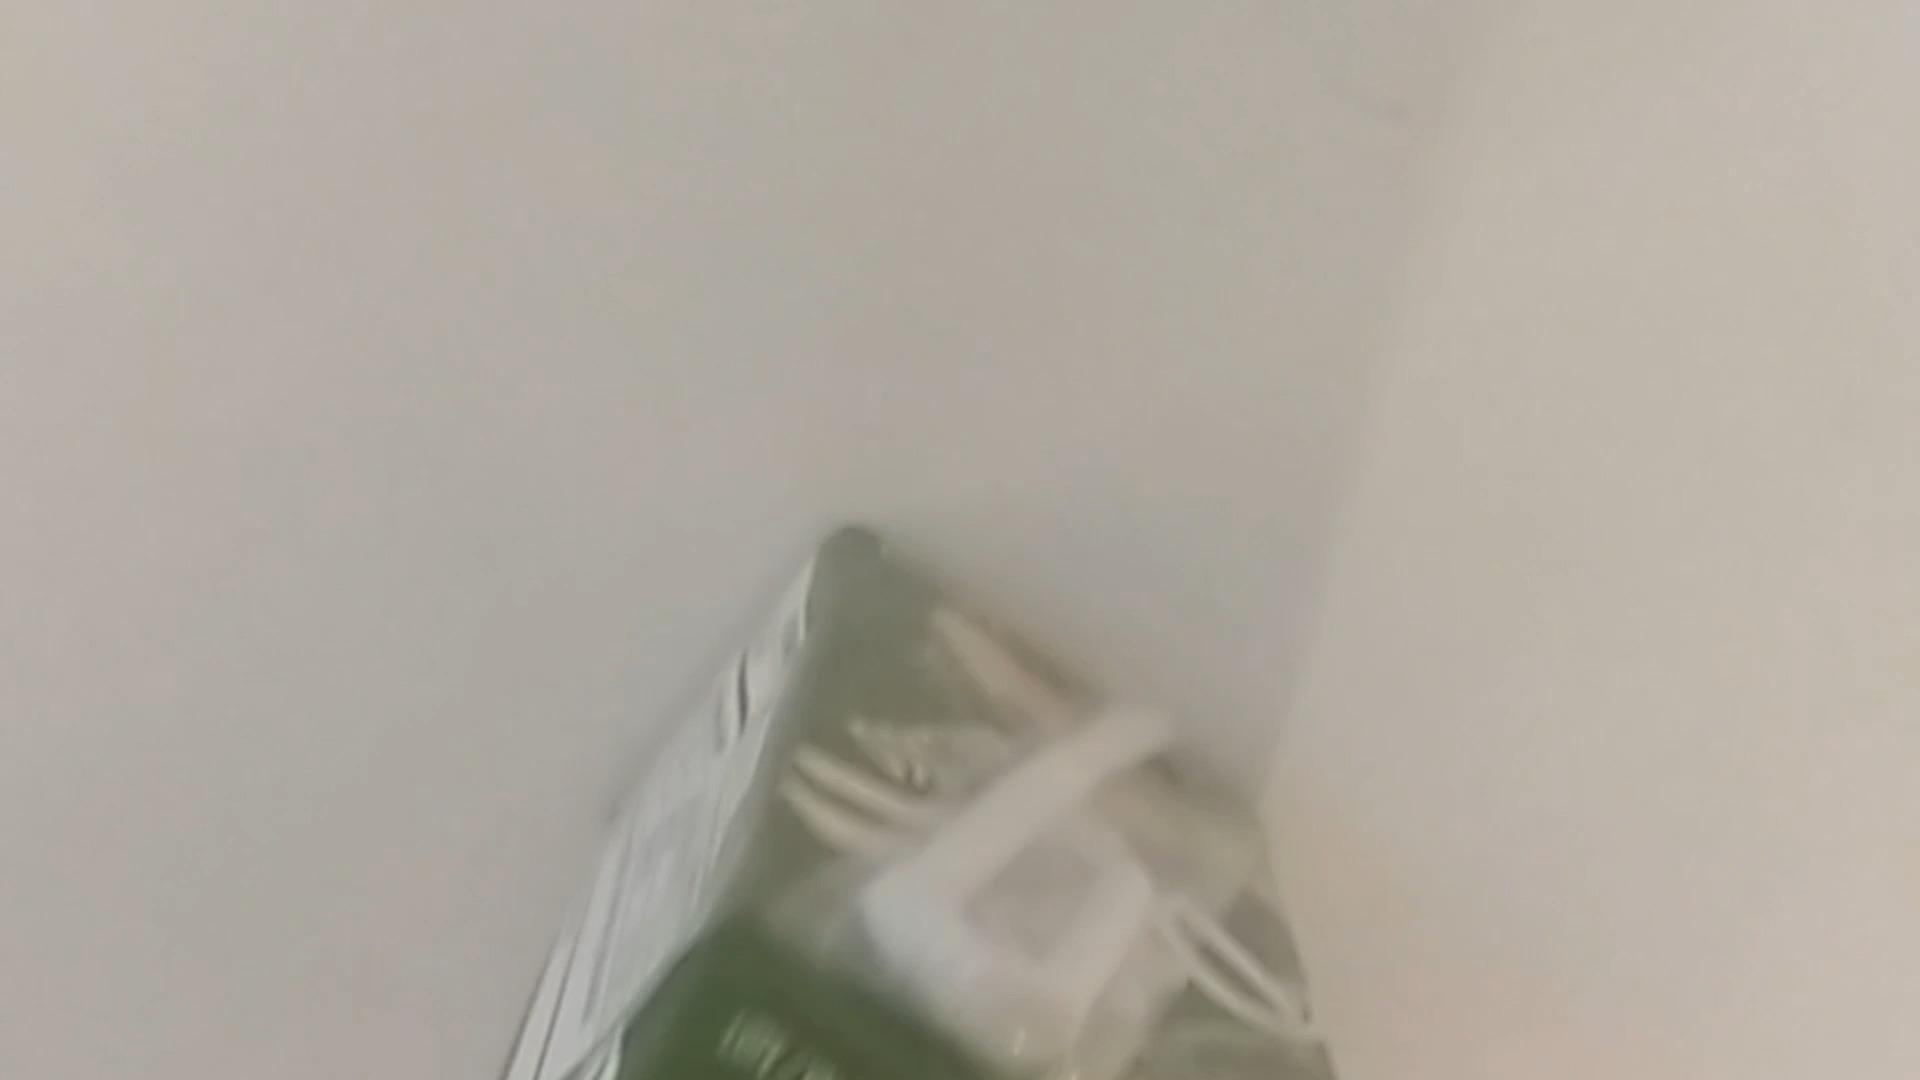coco: (502, 502, 1353, 1080)
